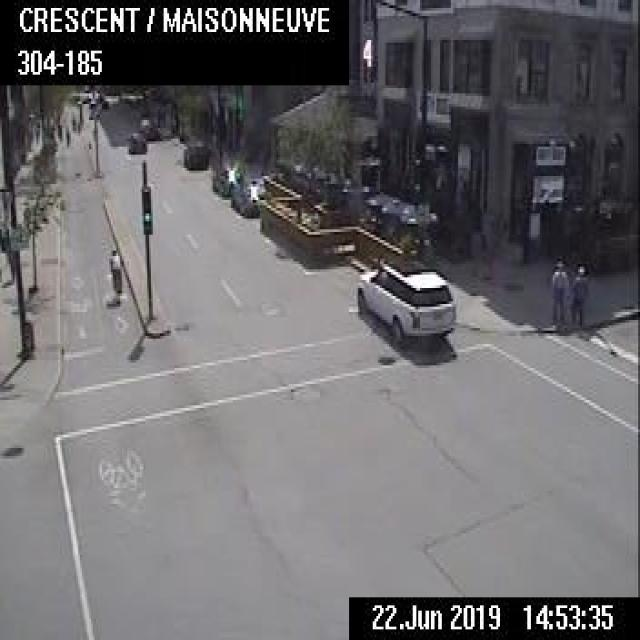cyclist: (105, 246, 124, 302), (56, 117, 62, 140), (69, 110, 75, 133), (64, 123, 69, 147)
pedestrian: (549, 256, 567, 325), (568, 264, 586, 327)
vehicle: (353, 248, 456, 344), (229, 170, 265, 215), (211, 166, 240, 194), (182, 138, 209, 168), (126, 128, 146, 152)
